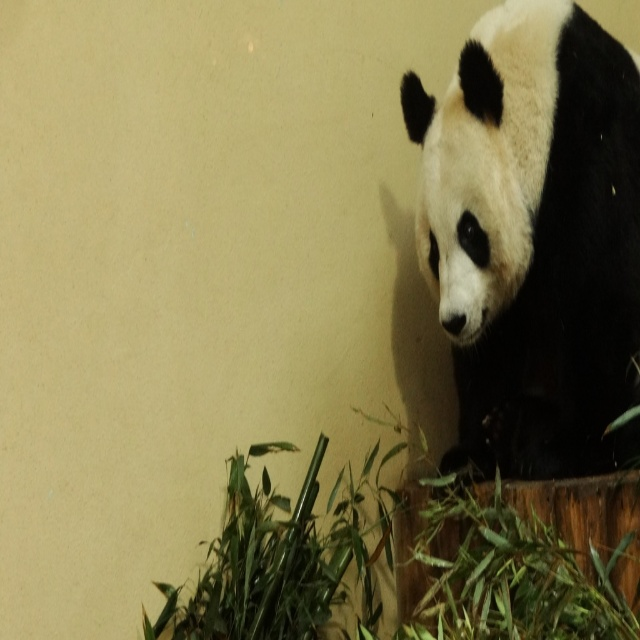Panda: (398, 0, 640, 479)
